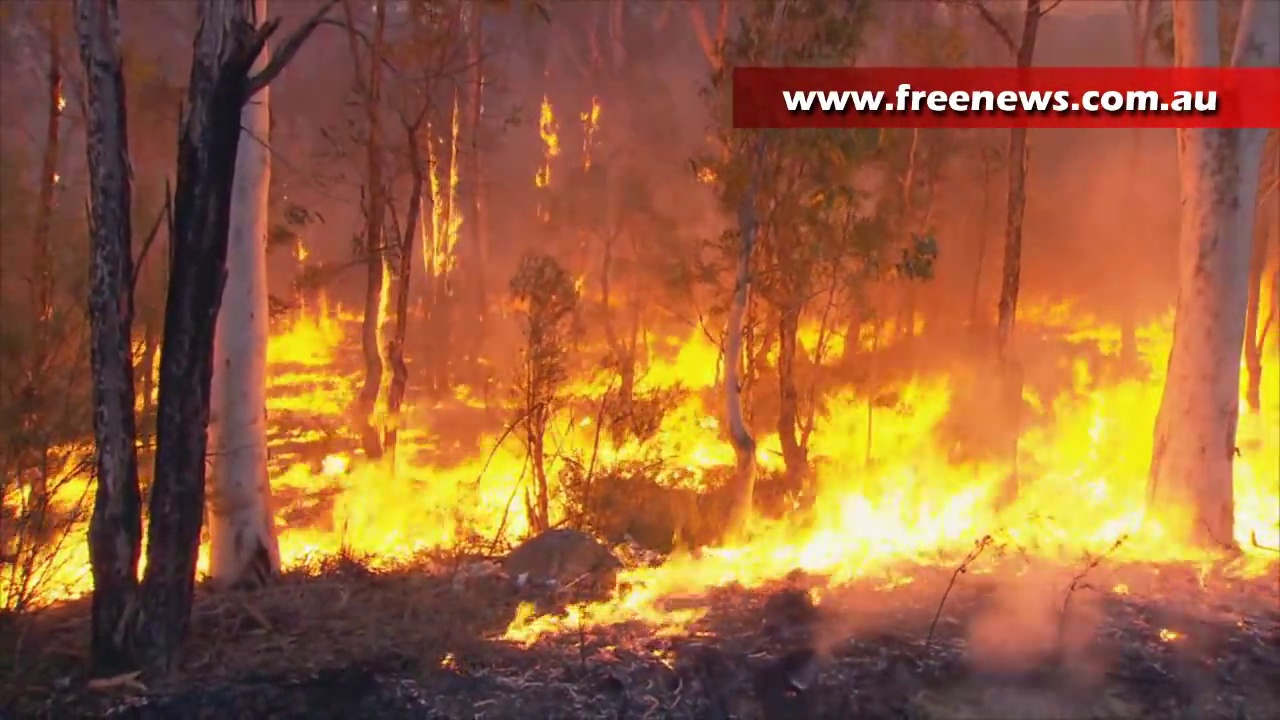fire: (790, 387, 1154, 571), (520, 343, 785, 493), (502, 543, 783, 650), (276, 458, 518, 567), (3, 462, 92, 597), (266, 310, 351, 414), (1240, 336, 1276, 552), (421, 145, 462, 273), (540, 101, 564, 155)
